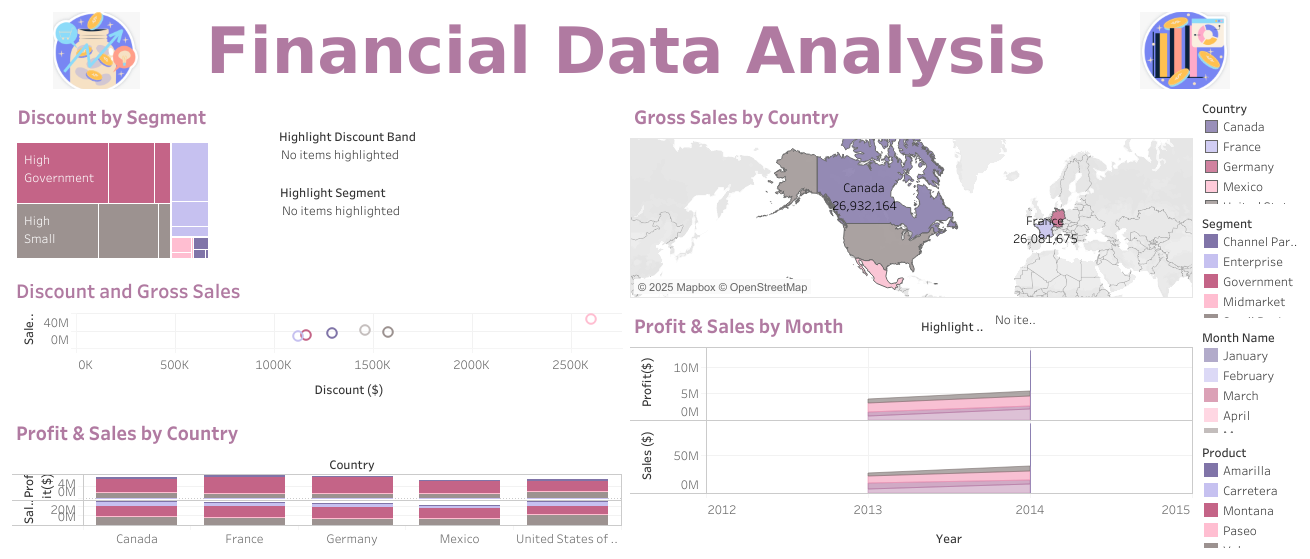

What the dashboard file says about the page in this screenshot:
{"tool":"tableau","page":{"name":"Dashboard 2","canvas":[1000,1000],"units":"permille","ordinal":1},"visuals":[{"type":"image","param":"Image/Screenshot 2025-05-20 153805.png","box":[7,14.3,133.8,151.7]},{"type":"text","box":[140.8,14.3,673.1,151.7]},{"type":"image","param":"Image/Screenshot 2025-05-20 153311.png","box":[813.9,14.3,179.1,151.7]},{"type":"worksheet","title":"Discount by Segment ","mark":"Automatic","box":[7,166,391.5,310.7]},{"type":"worksheet","title":"Gross Sales by Country","mark":"Multipolygon","box":[398.6,166,501.3,373.2]},{"type":"legend","title":"Gross Sales by Country","param":"[federated.0ifnn900lnlmcm13k0bht0r28kvz].[none:Country:nk]","box":[899.9,166,93.1,204.9]},{"type":"highlighter","title":"Discount by Segment ","param":"[federated.0ifnn900lnlmcm13k0bht0r28kvz].[none:Discount Band:nk]","box":[213,225,155.9,75]},{"type":"highlighter","title":"Discount by Segment ","param":"[federated.0ifnn900lnlmcm13k0bht0r28kvz].[none:Segment:nk]","box":[213.8,325,183.1,87.5]},{"type":"legend","title":"Profit and Sales by Country","param":"[federated.0ifnn900lnlmcm13k0bht0r28kvz].[none:Segment:nk]","box":[899.9,370.9,93.1,204.9]},{"type":"worksheet","title":"Discount and Gross Sales","mark":"Automatic","rows":["Sales ($)"],"cols":["Discount ($)"],"box":[7,476.7,391.5,254.5]},{"type":"worksheet","title":"Profit and Sales by Month","mark":"Area","rows":["Profit($)","Sales ($)"],"cols":["Year"],"box":[398.6,539.2,501.3,446.5]},{"type":"highlighter","title":"Profit and Sales by Month","param":"[federated.0ifnn900lnlmcm13k0bht0r28kvz].[none:Month Name:nk]","box":[702.7,553.6,92,57.1]},{"type":"legend","title":"Profit and Sales by Month","param":"[federated.0ifnn900lnlmcm13k0bht0r28kvz].[none:Month Name:nk]","box":[899.9,575.8,93.1,204.9]},{"type":"worksheet","title":"Profit and Sales by Country","mark":"Automatic","rows":["Profit($)","Sales ($)"],"cols":["Country"],"box":[7,731.2,391.5,254.5]},{"type":"legend","title":"Discount and Gross Sales","param":"[federated.0ifnn900lnlmcm13k0bht0r28kvz].[none:Product:nk]","box":[899.9,780.8,93.1,205]}]}

Visuals, with their boxes on the dashboard's canvas, which has no fixed pixel size, in thousandths of its width and height (x1, y1, x2, y2). These are canvas units, not pixel positions in the 1310x559 screenshot, which may show the page scaled, cropped or inside an application window:
image: 7, 14, 141, 166
text: 141, 14, 814, 166
image: 814, 14, 993, 166
"Discount by Segment " worksheet: 7, 166, 398, 477
"Gross Sales by Country" worksheet (Multipolygon marks): 399, 166, 900, 539
"Gross Sales by Country" legend: 900, 166, 993, 371
"Discount by Segment " highlighter: 213, 225, 369, 300
"Discount by Segment " highlighter: 214, 325, 397, 412
"Profit and Sales by Country" legend: 900, 371, 993, 576
"Discount and Gross Sales" worksheet: 7, 477, 398, 731
"Profit and Sales by Month" worksheet (Area marks): 399, 539, 900, 986
"Profit and Sales by Month" highlighter: 703, 554, 795, 611
"Profit and Sales by Month" legend: 900, 576, 993, 781
"Profit and Sales by Country" worksheet: 7, 731, 398, 986
"Discount and Gross Sales" legend: 900, 781, 993, 986
